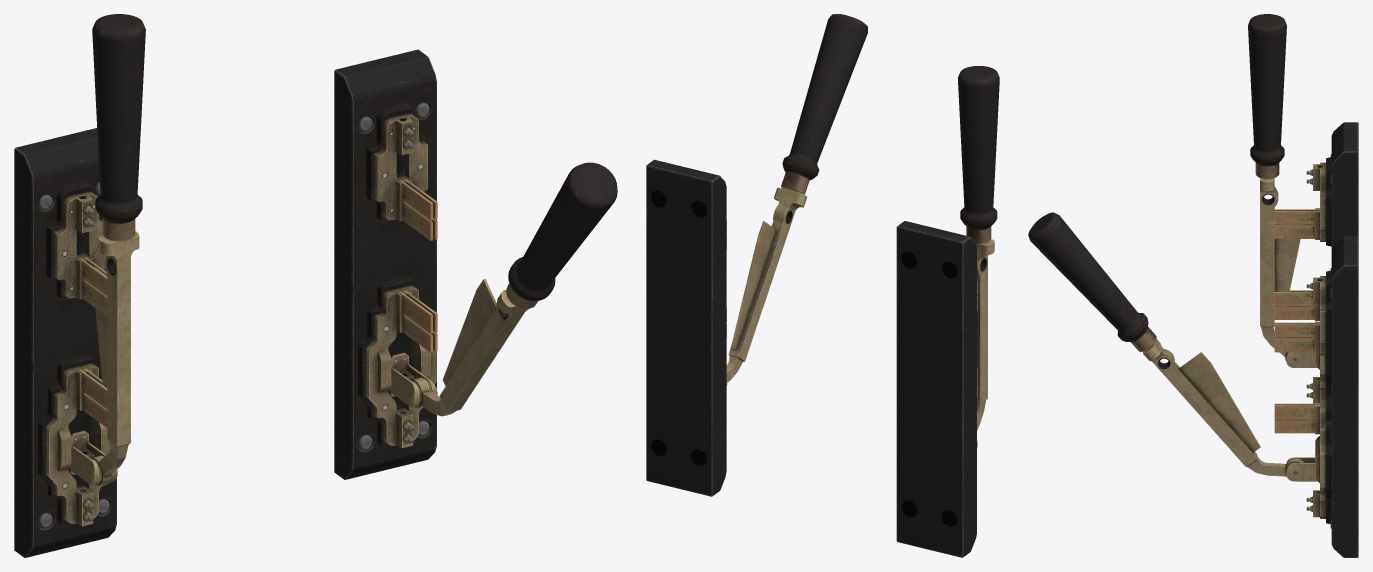
Rendered from sketchfab-knife-switch-type-d.glb.
3 renders of one model, left to right at view 1: azimuth 30°, elevation 25°; view 2: azimuth 150°, elevation 25°; view 3: azimuth 270°, elevation 25°, orthographic. The views are drawn at different scales.
Parts seen in each view (by area): view 1: Early 1900s Knife Switch Type D Open_0, base, blade, handle; view 2: Early 1900s Knife Switch Type D Open_0, base, blade, handle; view 3: Early 1900s Knife Switch Type D Open_0, base, blade, handle.
Part boxes in pixels (box(x1,y1,x2,y2)): Early 1900s Knife Switch Type D Open_0: box(334, 49, 617, 479); base: box(14, 128, 139, 557); blade: box(92, 32, 145, 241); handle: box(92, 14, 145, 41); Early 1900s Knife Switch Type D Open_0: box(646, 14, 867, 496); base: box(896, 221, 994, 557); blade: box(958, 80, 999, 243); handle: box(958, 66, 999, 87); Early 1900s Knife Switch Type D Open_0: box(1028, 212, 1358, 557); base: box(1260, 122, 1358, 403); blade: box(1248, 27, 1286, 179); handle: box(1248, 14, 1286, 33).
Size of the model in its own units: 0.2593 by 0.3455 by 0.2523.
Materials: 1 (1 with a texture image).
